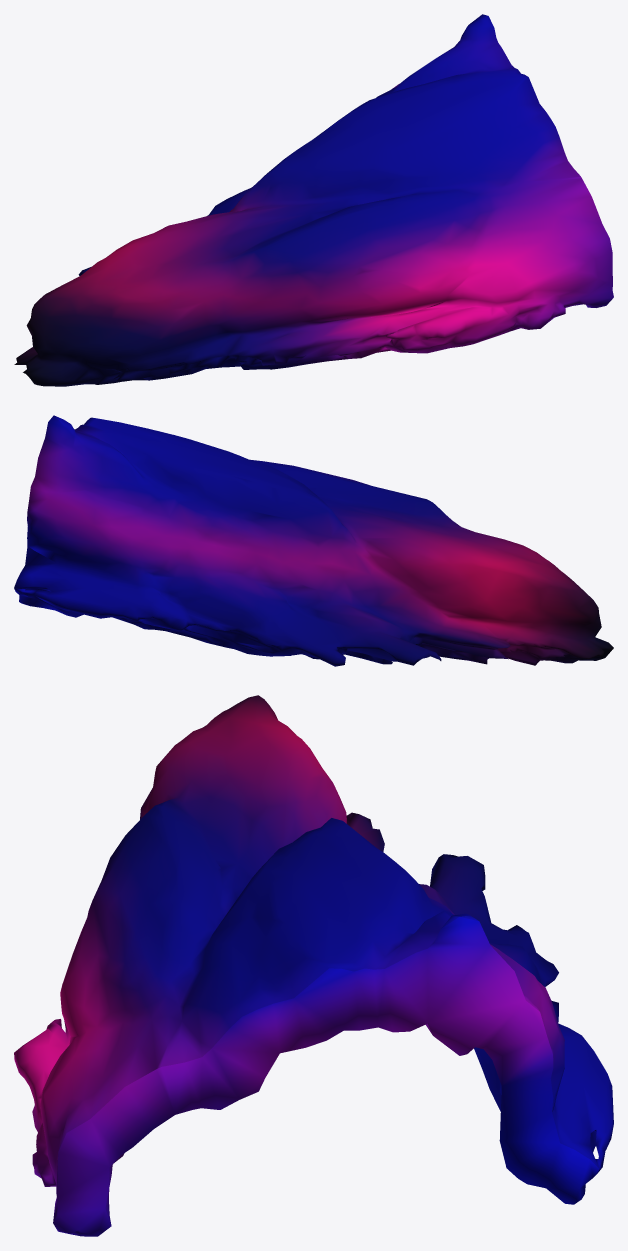
Rendered from iron_vein-u4-cold-lod0.gltf.
3 renders of one model, top to bottom at view 1: azimuth 30°, elevation 25°; view 2: azimuth 150°, elevation 25°; view 3: azimuth 270°, elevation 25°, orthographic. The views are drawn at different scales.
Visible parts, largest first — view 1: iron_vein-u4-cold-lod0; view 2: iron_vein-u4-cold-lod0; view 3: iron_vein-u4-cold-lod0.
Part boxes in pixels (x1,y1,x2,y2): iron_vein-u4-cold-lod0: (14, 14, 613, 386); iron_vein-u4-cold-lod0: (14, 415, 613, 666); iron_vein-u4-cold-lod0: (14, 695, 613, 1236).
Size of the model in its own units: 1.24 by 0.4371 by 0.7427.
